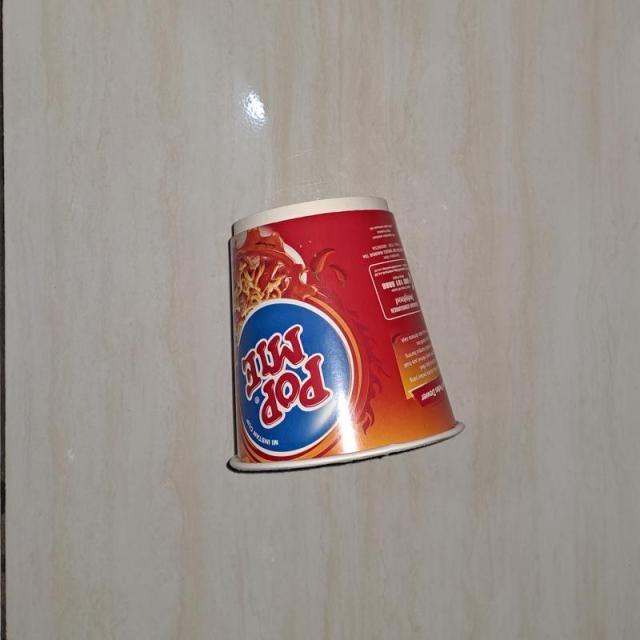Anorganik: (201, 190, 476, 497)
